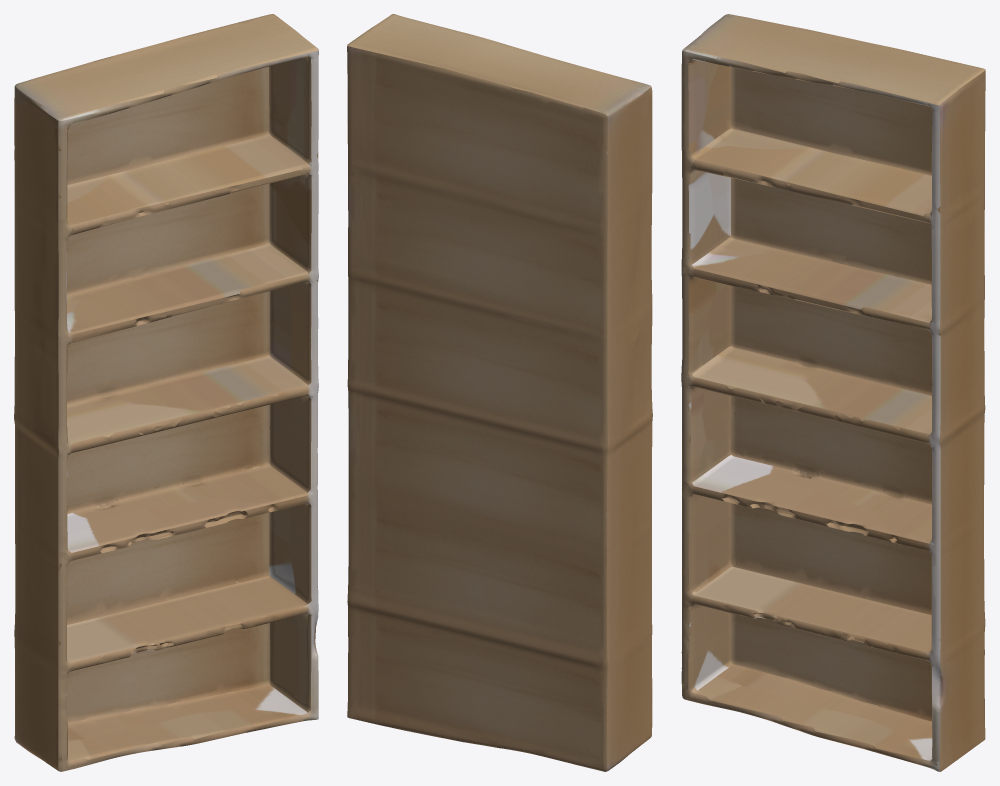
File: shelf__shelf#1.glb
The picture shows the model from 3 angles, left to right: view 1: azimuth 30°, elevation 25°; view 2: azimuth 150°, elevation 25°; view 3: azimuth 330°, elevation 25°; orthographic projection.
Parts seen in each view (by area): view 1: tmpbhr86f52.ply; view 2: tmpbhr86f52.ply; view 3: tmpbhr86f52.ply.
Part boxes in pixels (x1,y1,x2,y2): tmpbhr86f52.ply: (14,14,318,771); tmpbhr86f52.ply: (347,14,652,771); tmpbhr86f52.ply: (681,14,985,771).
Size of the model in its own units: 0.8084 by 1.99 by 0.2513.
Materials: 1 (1 with a texture image).
